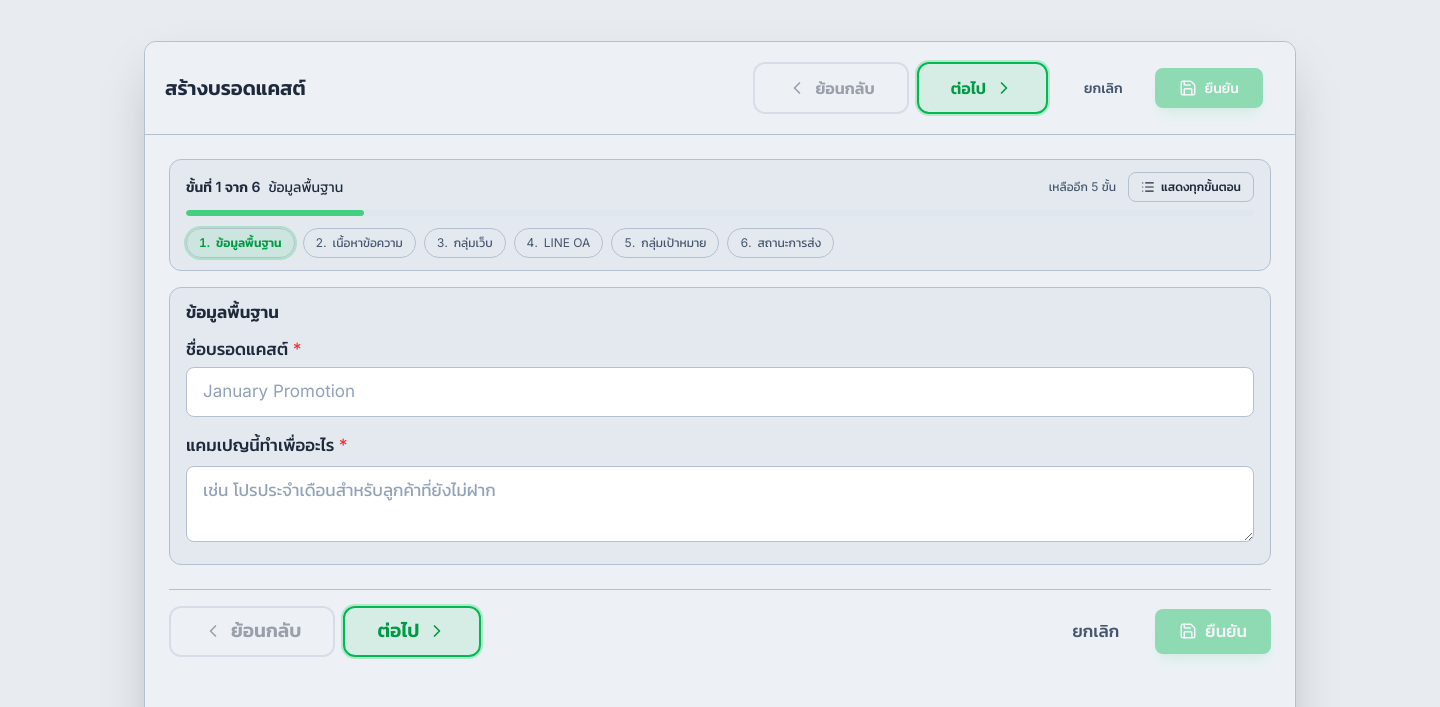
Test: [FIX-20260824-PICKERSAME] ช่องเลือกทุกช่องค้นหาได้เหมือนกันหมด › 🔴 assign_group ติ๊กได้หลายกลุ่ม (กลับด้านจากกติกาเดิม 24/08)
Click the button with test id "-toggle" at {"x": 1191, "y": 186}, box [1128,172,1254,202]
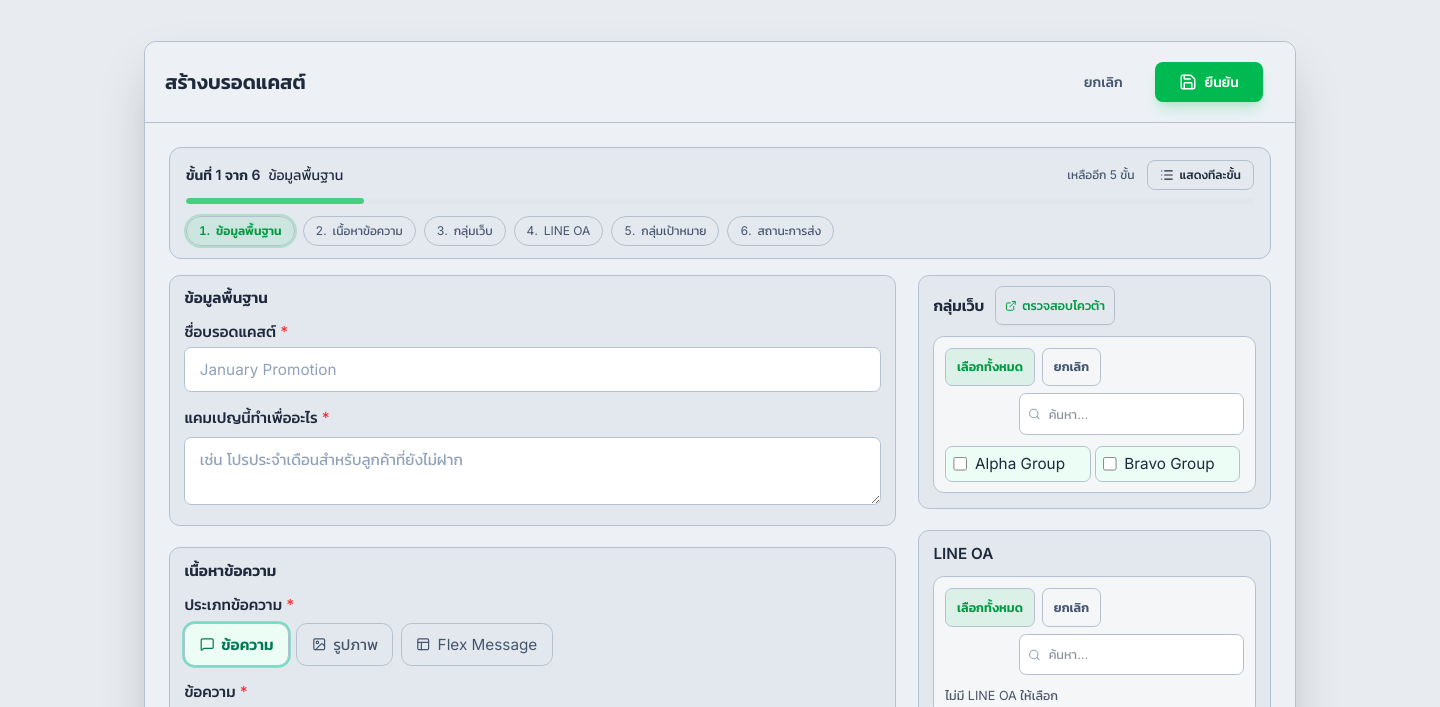
Result: the checkbox labelled "Alpha Group" is shown at [953,457,968,471]
